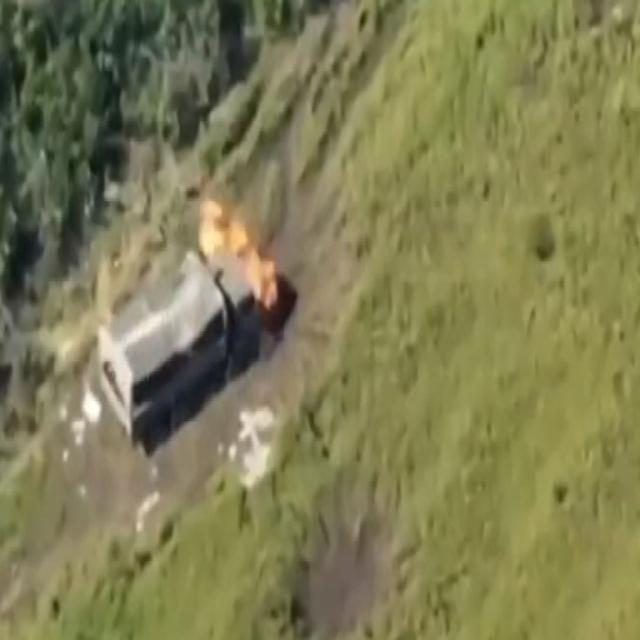TRUCK: (94, 238, 260, 451)
